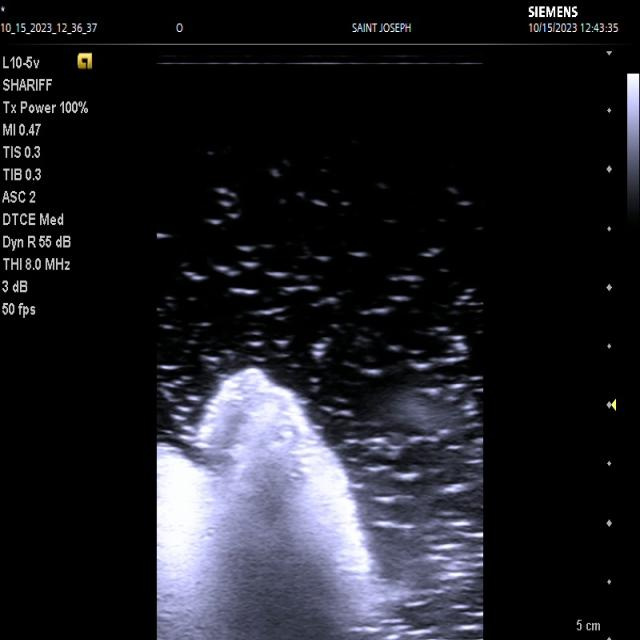tissue: (157, 368, 379, 640)
